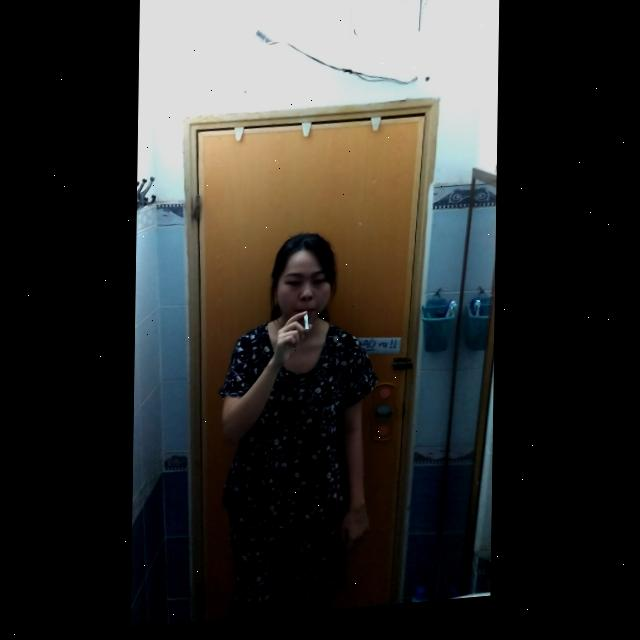cigarette: (305, 316, 311, 336)
